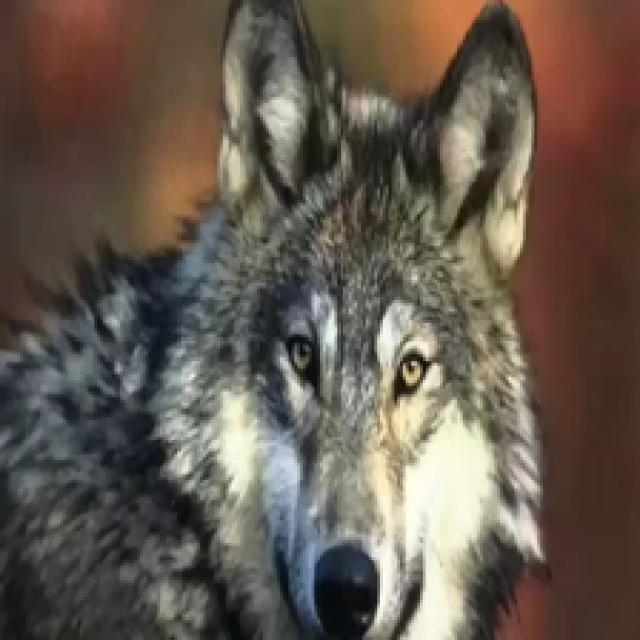wolf: (23, 0, 557, 640)
